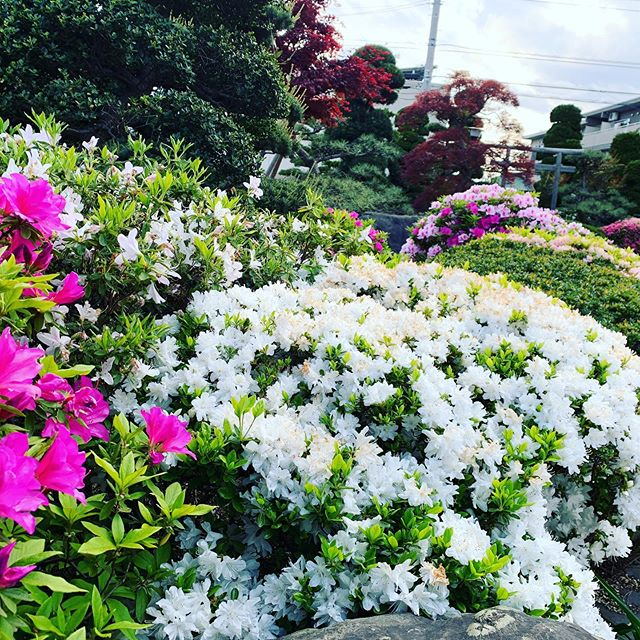flowers: (5, 132, 640, 616)
